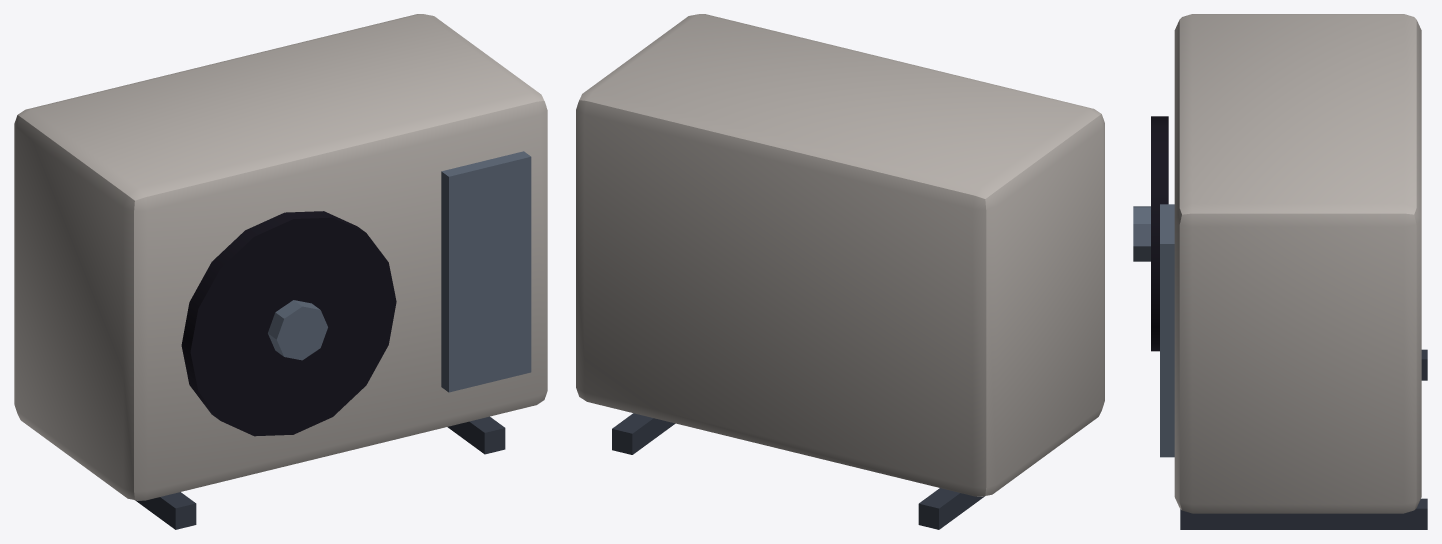
File: ac_unit.glb
3 renders of one model, left to right at view 1: azimuth 30°, elevation 25°; view 2: azimuth 150°, elevation 25°; view 3: azimuth 270°, elevation 25°, orthographic.
Parts seen in each view (by area): view 1: ac_unit; view 2: ac_unit; view 3: ac_unit.
Part boxes in pixels (x1,y1,x2,y2): ac_unit: [14, 14, 547, 529]; ac_unit: [576, 14, 1104, 529]; ac_unit: [1133, 14, 1427, 529].
Bounding box in the file's own units: 0.82 × 0.64 × 0.5.
Materials: 1 (1 with a texture image).
